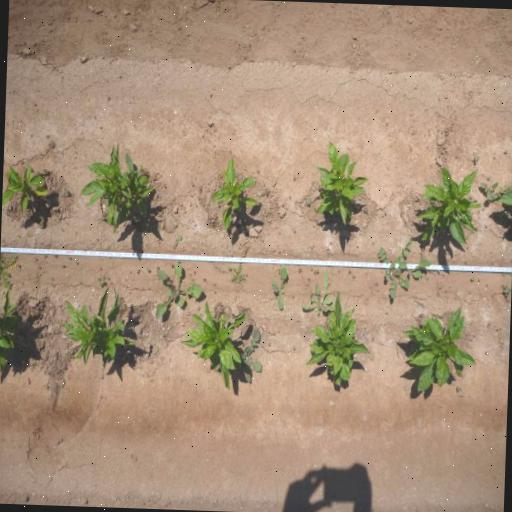plant: (80, 139, 157, 232), (401, 303, 477, 395), (304, 290, 371, 390), (60, 284, 137, 371), (180, 300, 248, 391), (416, 163, 480, 249), (313, 138, 370, 227), (208, 155, 262, 233), (2, 165, 49, 215), (0, 288, 20, 374)
weed: (375, 232, 415, 305), (155, 264, 203, 319), (301, 265, 335, 317), (240, 326, 264, 384), (270, 265, 290, 311), (399, 256, 432, 281), (479, 178, 512, 202), (0, 251, 18, 289), (230, 262, 246, 284), (173, 233, 183, 248), (501, 282, 511, 296), (472, 153, 480, 164), (98, 276, 105, 287), (455, 384, 462, 392), (298, 266, 304, 274), (305, 198, 311, 206), (363, 206, 369, 214), (62, 187, 68, 194), (34, 168, 40, 175), (313, 268, 320, 274), (139, 312, 143, 320), (292, 344, 296, 352), (43, 168, 48, 174), (470, 276, 475, 281), (146, 266, 150, 272), (155, 266, 160, 270), (352, 274, 356, 279), (74, 260, 78, 264), (60, 264, 64, 268), (266, 342, 270, 346), (169, 262, 172, 266), (227, 265, 230, 269), (190, 181, 193, 185)
